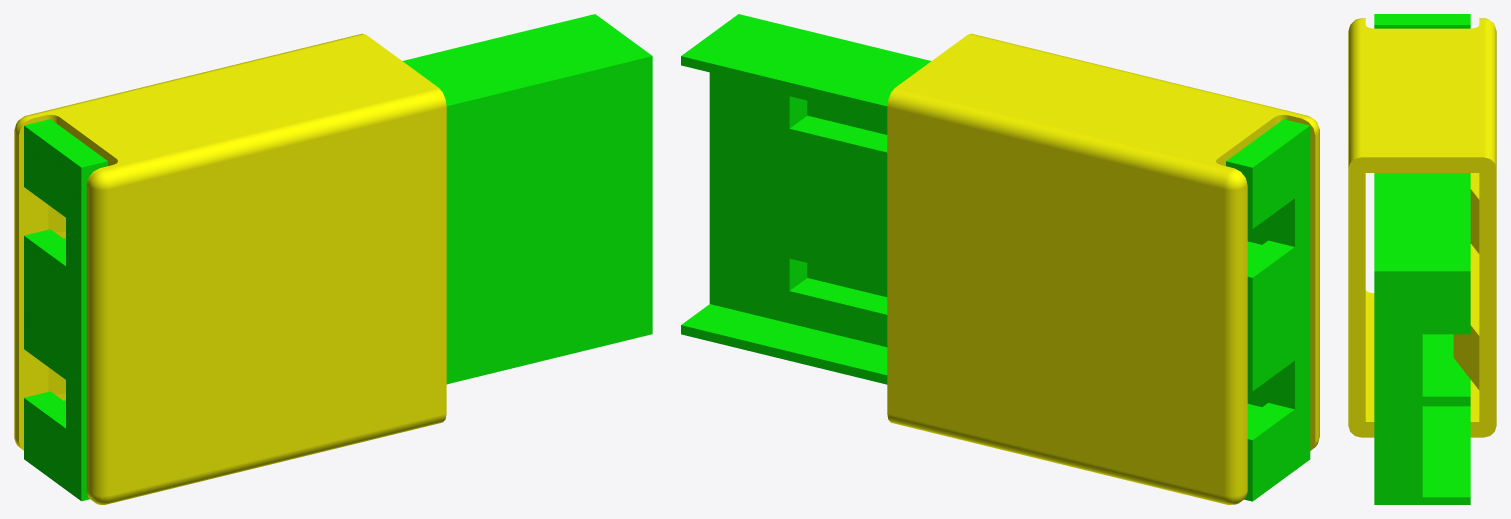
Rendered from assembly.gltf.
3 views of the same model, side by side, from view 1: azimuth 30°, elevation 25°; view 2: azimuth 150°, elevation 25°; view 3: azimuth 270°, elevation 25° (orthographic). The views are drawn at different scales.
Parts seen in each view (by area): view 1: 0ffc2432-6360-11ee-a404-cfada1d95ba7_part, 0ffc2431-6360-11ee-a404-cfada1d95ba7_part; view 2: 0ffc2432-6360-11ee-a404-cfada1d95ba7_part, 0ffc2431-6360-11ee-a404-cfada1d95ba7_part; view 3: 0ffc2432-6360-11ee-a404-cfada1d95ba7_part, 0ffc2431-6360-11ee-a404-cfada1d95ba7_part.
Part boxes in pixels (x1,y1,x2,y2): 0ffc2432-6360-11ee-a404-cfada1d95ba7_part: (14,33,446,504); 0ffc2431-6360-11ee-a404-cfada1d95ba7_part: (24,14,652,501); 0ffc2432-6360-11ee-a404-cfada1d95ba7_part: (887,33,1319,504); 0ffc2431-6360-11ee-a404-cfada1d95ba7_part: (681,14,1310,501); 0ffc2432-6360-11ee-a404-cfada1d95ba7_part: (1348,18,1496,437); 0ffc2431-6360-11ee-a404-cfada1d95ba7_part: (1374,14,1470,504).
Bounding box in the file's own units: 25.8 × 14.4 × 6.9.
